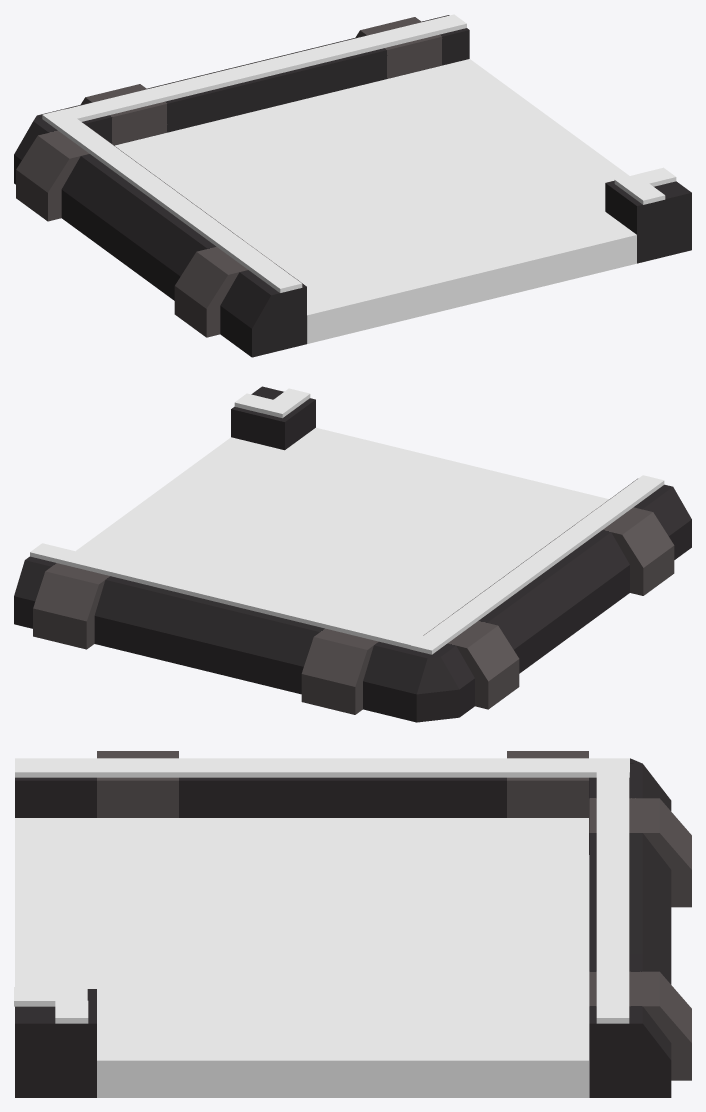
Rendered from RightCarbonConveyor.glb.
The picture shows the model from 3 angles, top to bottom: view 1: azimuth 30°, elevation 25°; view 2: azimuth 150°, elevation 25°; view 3: azimuth 270°, elevation 25°; orthographic projection. The views are drawn at different scales.
Parts seen in each view (by area): view 1: cuboid (×3), Lights_selection; view 2: cuboid (×3), Lights_selection; view 3: cuboid (×3), Lights_selection.
Boxes of the visible parts, left/top/right/bottom form: cuboid (×3): left=14, top=15, right=691, bottom=357; Lights_selection: left=42, top=14, right=676, bottom=292; cuboid (×3): left=14, top=386, right=691, bottom=722; Lights_selection: left=30, top=388, right=664, bottom=654; cuboid (×3): left=15, top=751, right=691, bottom=1097; Lights_selection: left=14, top=758, right=629, bottom=1023.
Bounding box in the file's own units: 1.03 × 0.1344 × 1.03.
3 materials, 1 textured.
